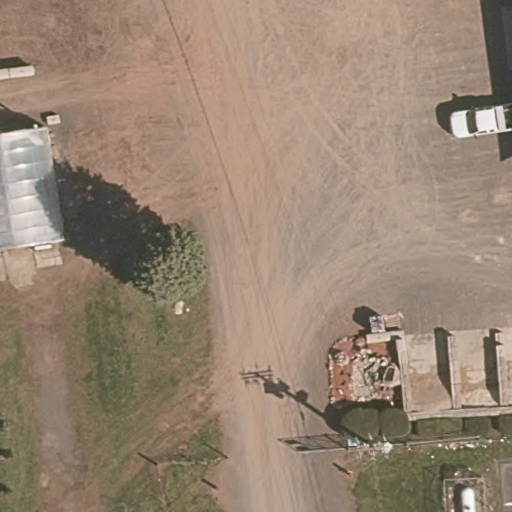DT: (278, 421, 399, 462)
